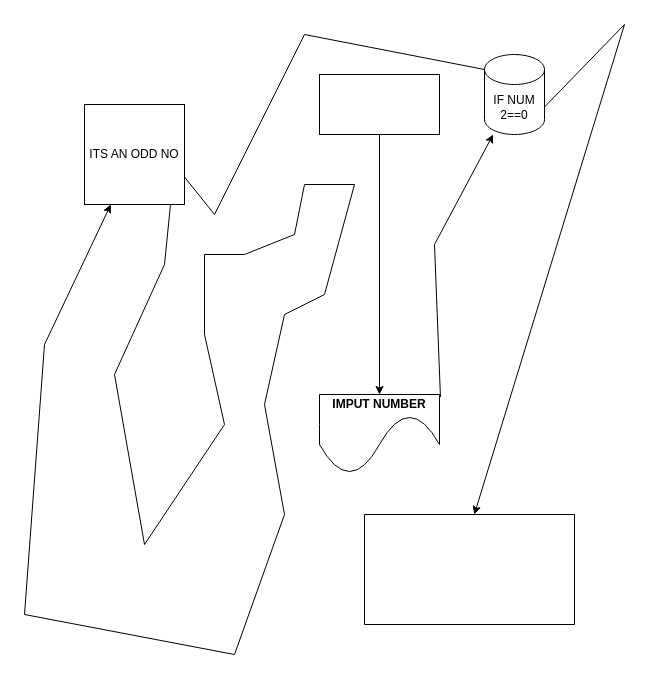
The diagram is 650 pixels wide and 680 high, and some of its shapes have lost their labels. Here are the shapes that lost their labels. From the top down, the centre of each, then its label:
At (379,104): "START".
At (469,569): "YES ITS AN EVEN NOPE".
